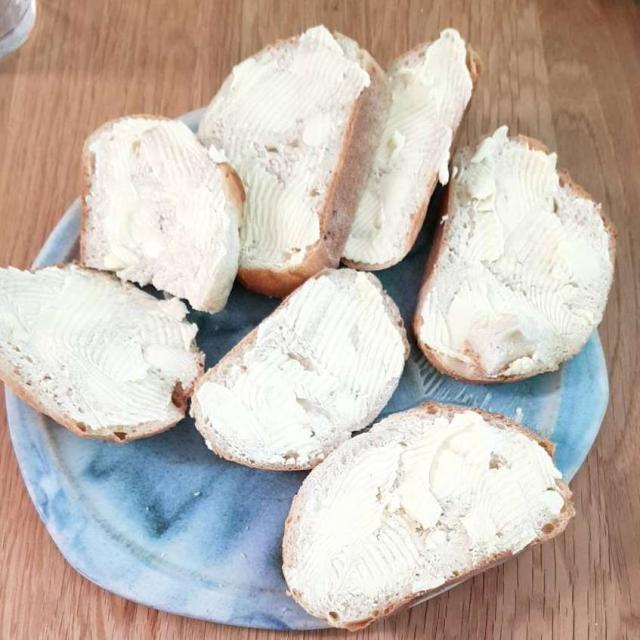bread: (8, 38, 608, 616)
butter: (15, 52, 595, 601)
